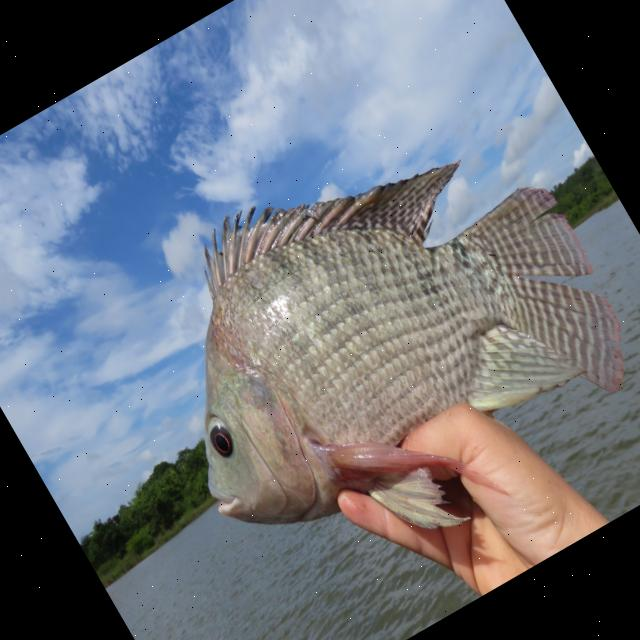ikan: (91, 66, 640, 627)
